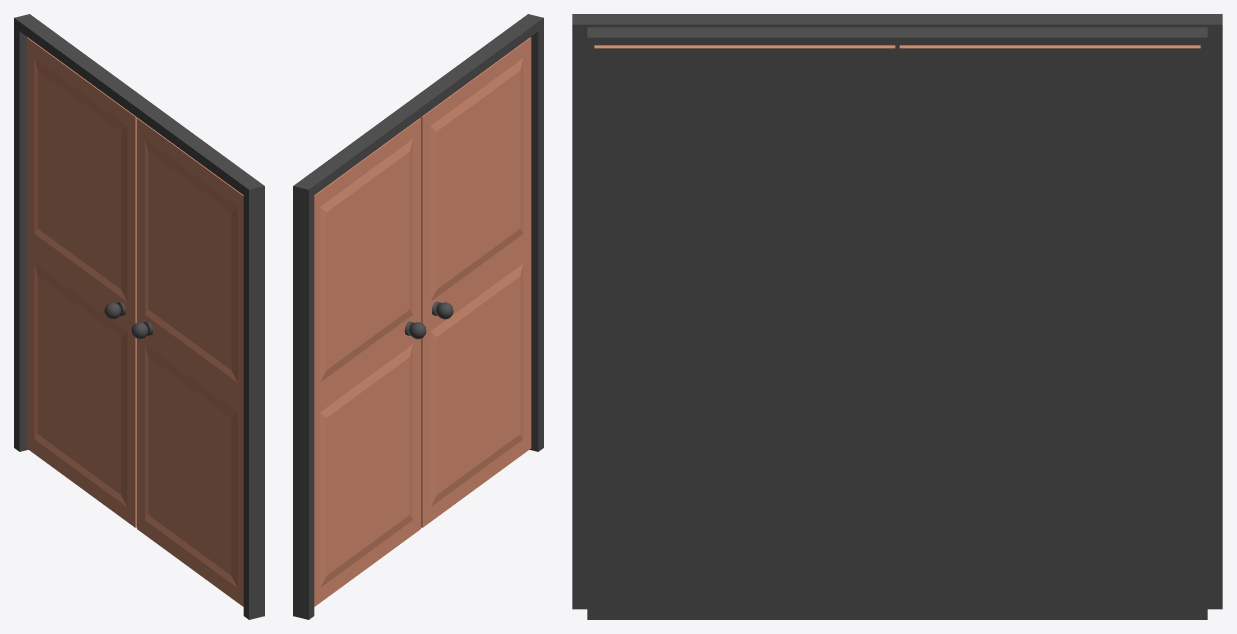
Rendered from double_doors.glb.
3 renders of one model, left to right at view 1: azimuth 30°, elevation 25°; view 2: azimuth 150°, elevation 25°; view 3: azimuth 270°, elevation 25°, orthographic. The views are drawn at different scales.
Visible parts, largest first — view 1: Door, DoorFrame; view 2: Door, DoorFrame; view 3: DoorFrame, Door.
Boxes of the visible parts, <box> form: Door: <box>26,37,243,606</box>; DoorFrame: <box>14,14,264,619</box>; Door: <box>314,37,531,606</box>; DoorFrame: <box>293,14,543,619</box>; DoorFrame: <box>572,14,1222,619</box>; Door: <box>594,45,1200,48</box>.
Bounding box in the file's own units: 0.184 × 2.3 × 2.28.
